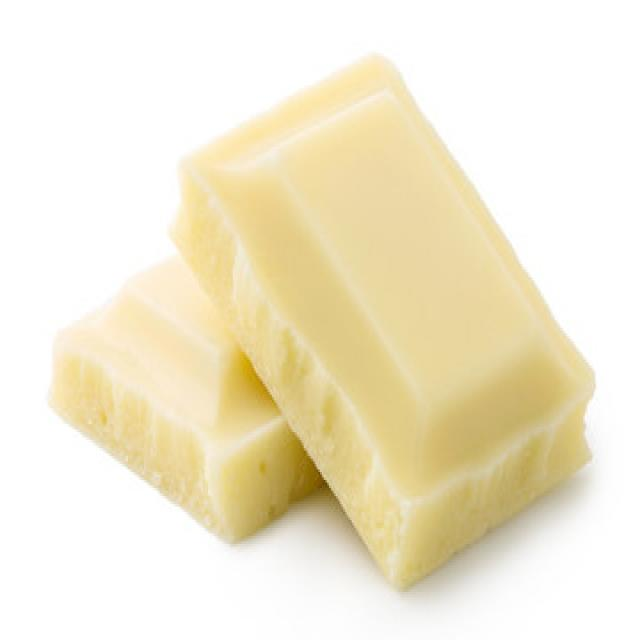chocolate: (170, 44, 593, 587), (52, 251, 330, 547)
